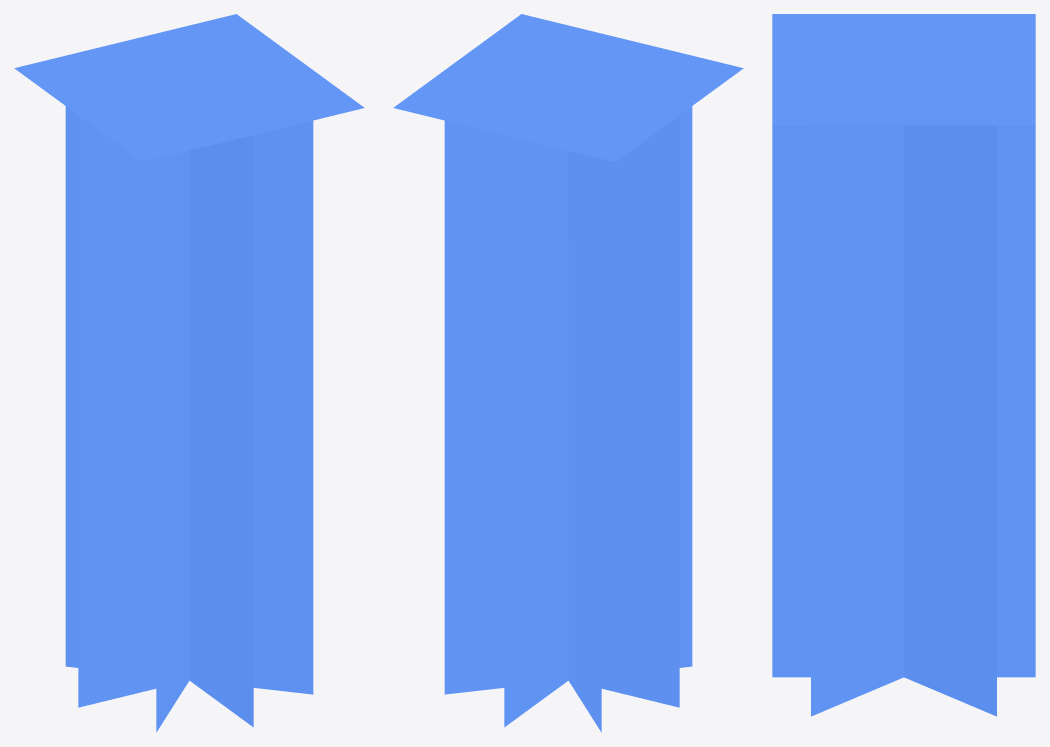
The model's file is thruster_exhaust.glb.
The picture shows the model from 3 angles, left to right: view 1: azimuth 30°, elevation 25°; view 2: azimuth 150°, elevation 25°; view 3: azimuth 270°, elevation 25°; orthographic projection. The views are drawn at different scales.
Parts seen in each view (by area): view 1: SIDE, TOP; view 2: SIDE, TOP; view 3: SIDE, TOP.
Boxes of the visible parts, box(x1,y1,x2,y2) form: SIDE: box(65, 106, 313, 732); TOP: box(14, 14, 364, 161); SIDE: box(444, 106, 692, 732); TOP: box(393, 14, 743, 161); SIDE: box(772, 125, 1035, 716); TOP: box(772, 14, 1035, 125).
Size of the model in its own units: 2 by 5.09 by 2.
